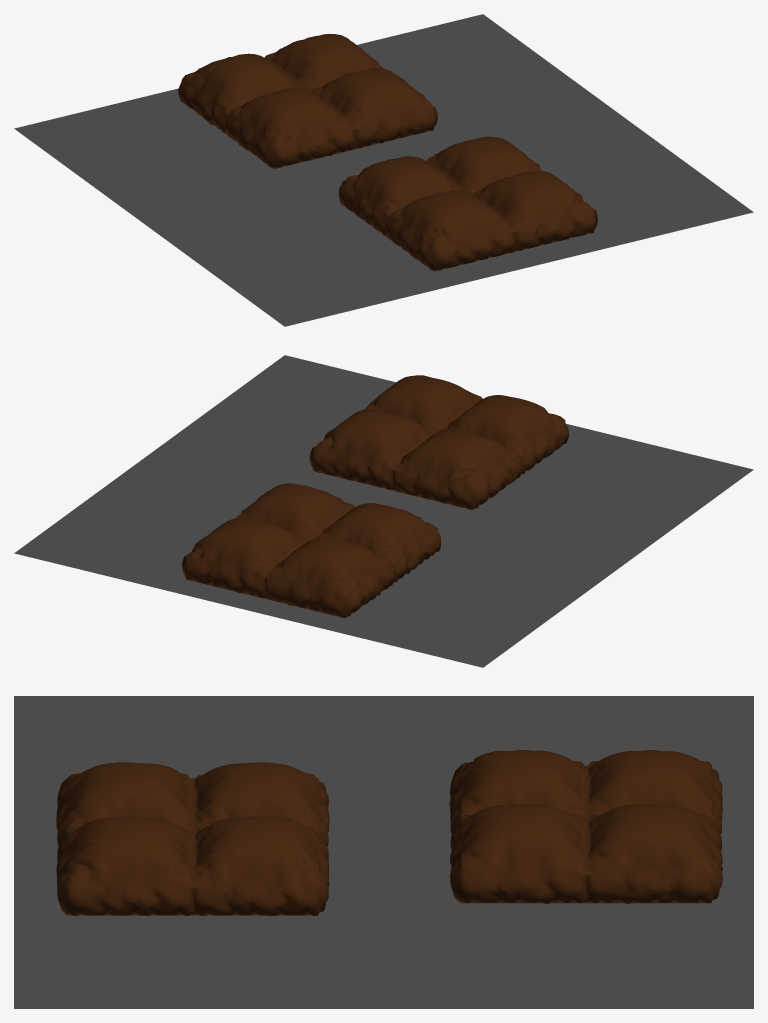
The model's file is puff.gltf.
The picture shows the model from 3 angles, top to bottom: view 1: azimuth 30°, elevation 25°; view 2: azimuth 150°, elevation 25°; view 3: azimuth 270°, elevation 25°; orthographic projection. The views are drawn at different scales.
Parts seen in each view (by area): view 1: Plane, Cube, Cube.001; view 2: Plane, Cube, Cube.001; view 3: Plane, Cube, Cube.001.
Boxes of the visible parts, bbox=[...] form: Plane: bbox=[14, 14, 753, 326]; Cube: bbox=[178, 34, 437, 168]; Cube.001: bbox=[339, 136, 597, 271]; Plane: bbox=[14, 355, 753, 667]; Cube: bbox=[182, 483, 441, 618]; Cube.001: bbox=[309, 375, 568, 509]; Plane: bbox=[14, 696, 753, 1008]; Cube: bbox=[449, 750, 722, 903]; Cube.001: bbox=[56, 762, 329, 915].
Bounding box in the file's own units: 5.88 × 0.5799 × 5.88.
